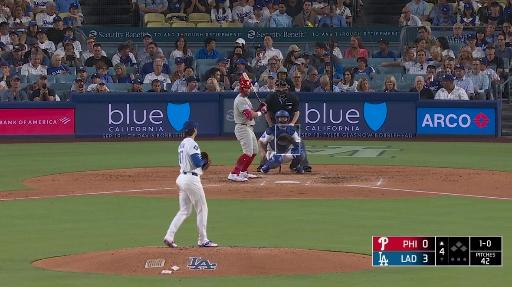pitcher: (163, 121, 219, 248)
